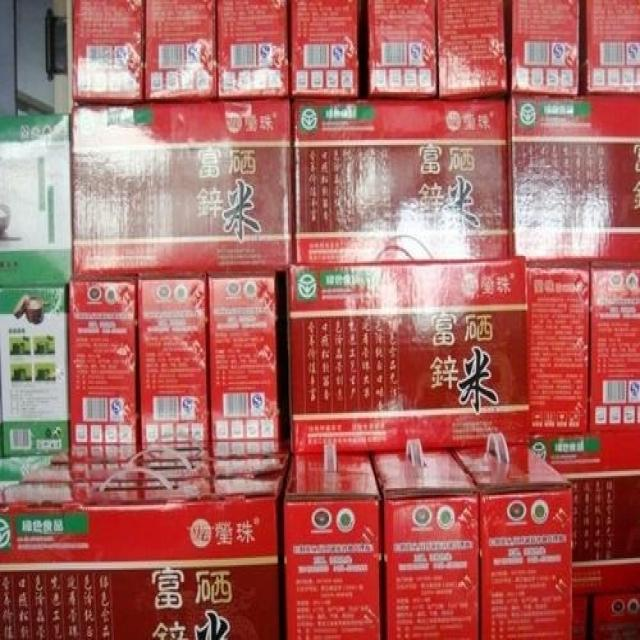box: (0, 473, 283, 640), (289, 261, 530, 452), (73, 97, 291, 280), (289, 99, 509, 263), (452, 447, 573, 640), (511, 96, 640, 259), (371, 447, 479, 638), (530, 432, 640, 596), (284, 451, 380, 638), (17, 427, 293, 483), (206, 276, 279, 442), (0, 114, 70, 285), (137, 278, 209, 444), (525, 259, 589, 437), (0, 288, 68, 454), (69, 282, 137, 442), (588, 259, 640, 433), (216, 0, 289, 97), (145, 2, 216, 101), (72, 0, 142, 99), (364, 0, 436, 96), (288, 0, 358, 97), (511, 0, 579, 96), (436, 2, 506, 94), (585, 0, 640, 94), (591, 597, 640, 638), (573, 594, 595, 640)
